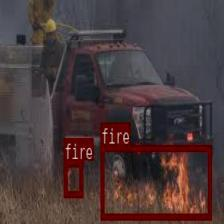fire: (100, 145, 210, 218), (64, 161, 82, 196)
